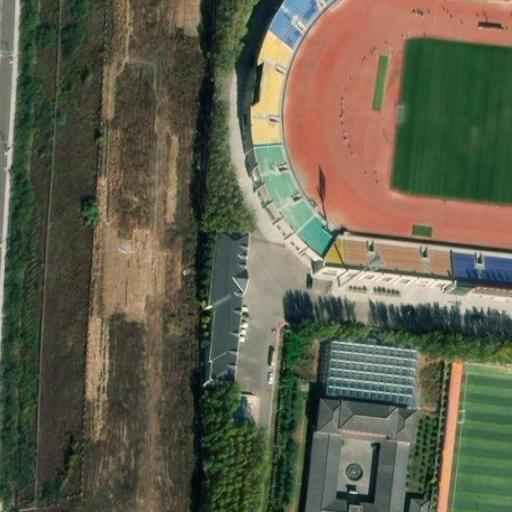building: (306, 397, 410, 512), (241, 133, 319, 237), (316, 240, 445, 290), (208, 230, 246, 389), (325, 342, 416, 407), (440, 251, 512, 295), (410, 498, 427, 512)
